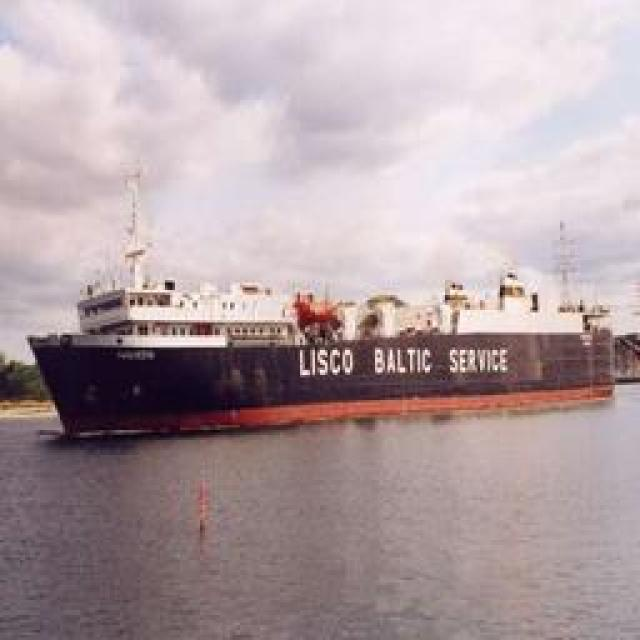CIV_Ship: (31, 218, 624, 426)
